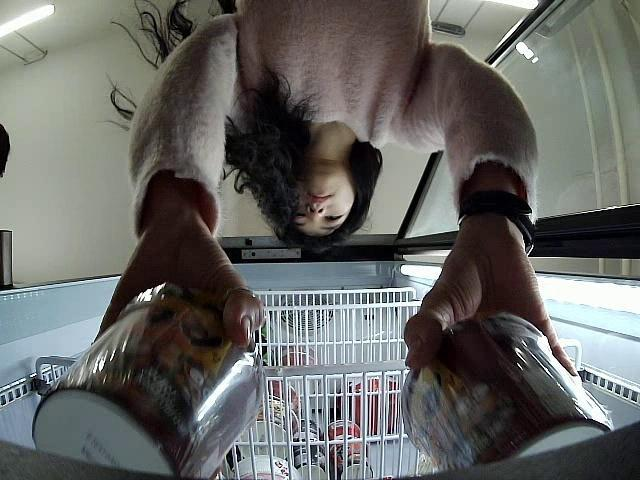06_nuguri_S: (30, 295, 262, 476), (400, 314, 615, 475)
